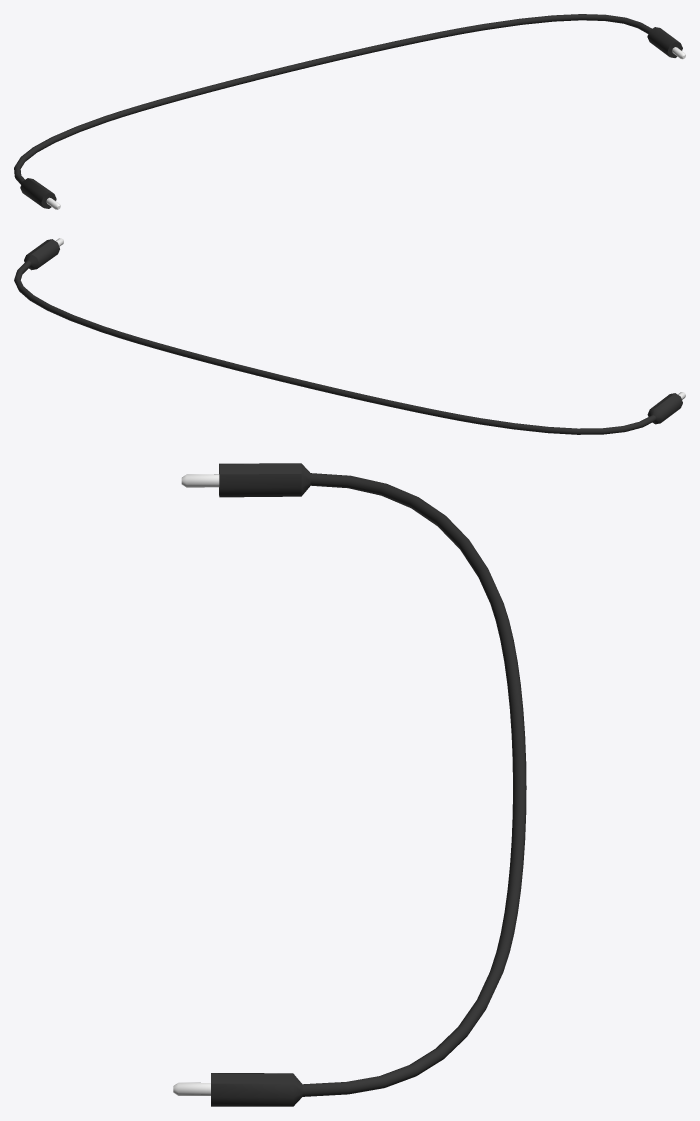
The model's file is ElectroWires10_2.FBX.
The picture shows the model from 3 angles, top to bottom: view 1: azimuth 30°, elevation 25°; view 2: azimuth 150°, elevation 25°; view 3: azimuth 270°, elevation 25°; orthographic projection. The views are drawn at different scales.
Visible parts, largest first — view 1: Wires10; view 2: Wires10; view 3: Wires10.
Boxes of the visible parts, x1,y1,x2,y2 form: Wires10: (14,14,685,209); Wires10: (14,238,685,434); Wires10: (173,463,526,1106).
Size of the model in its own units: 114 by 2.77 by 27.24.
